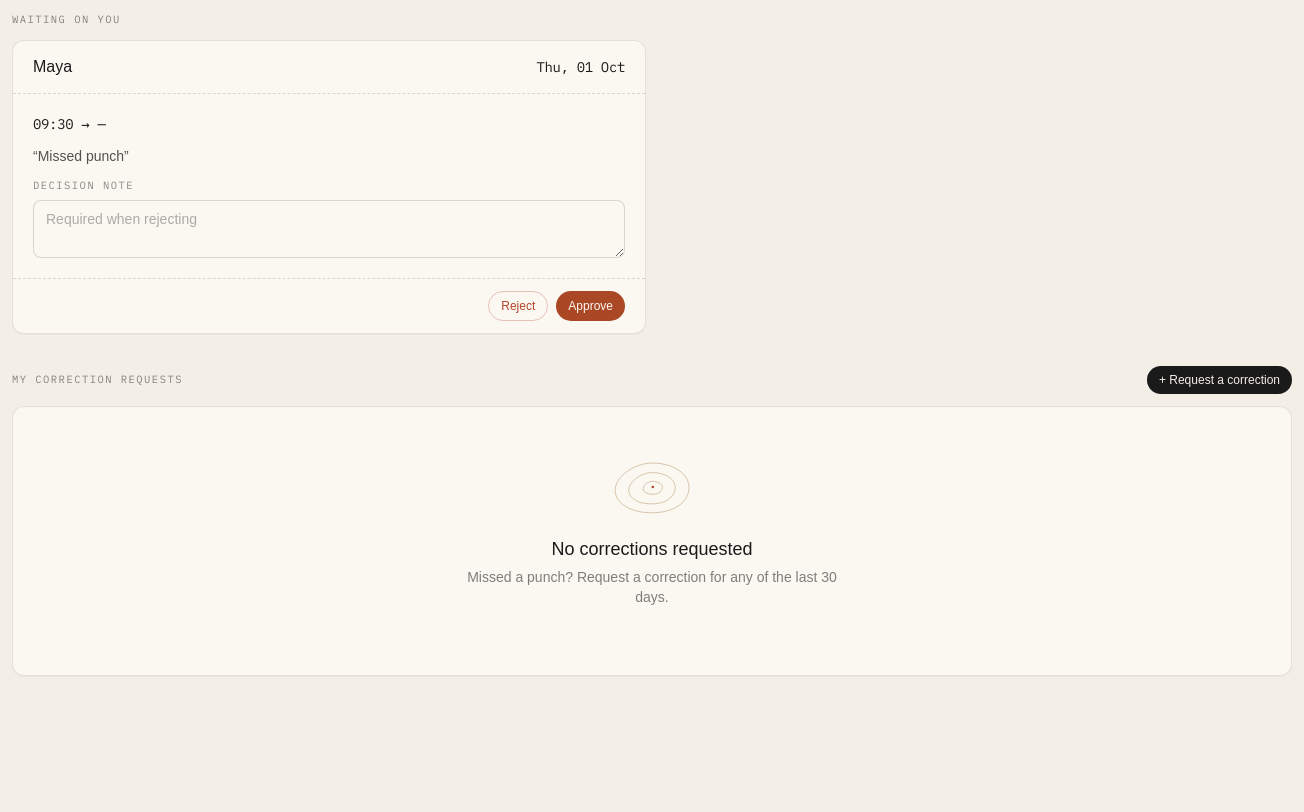
Test case: Attendance corrections › requires a note to reject, then posts the decision
The image size is (1304, 812).
Click the button "Reject": (518, 306) x1=488 y1=290 x2=548 y2=320
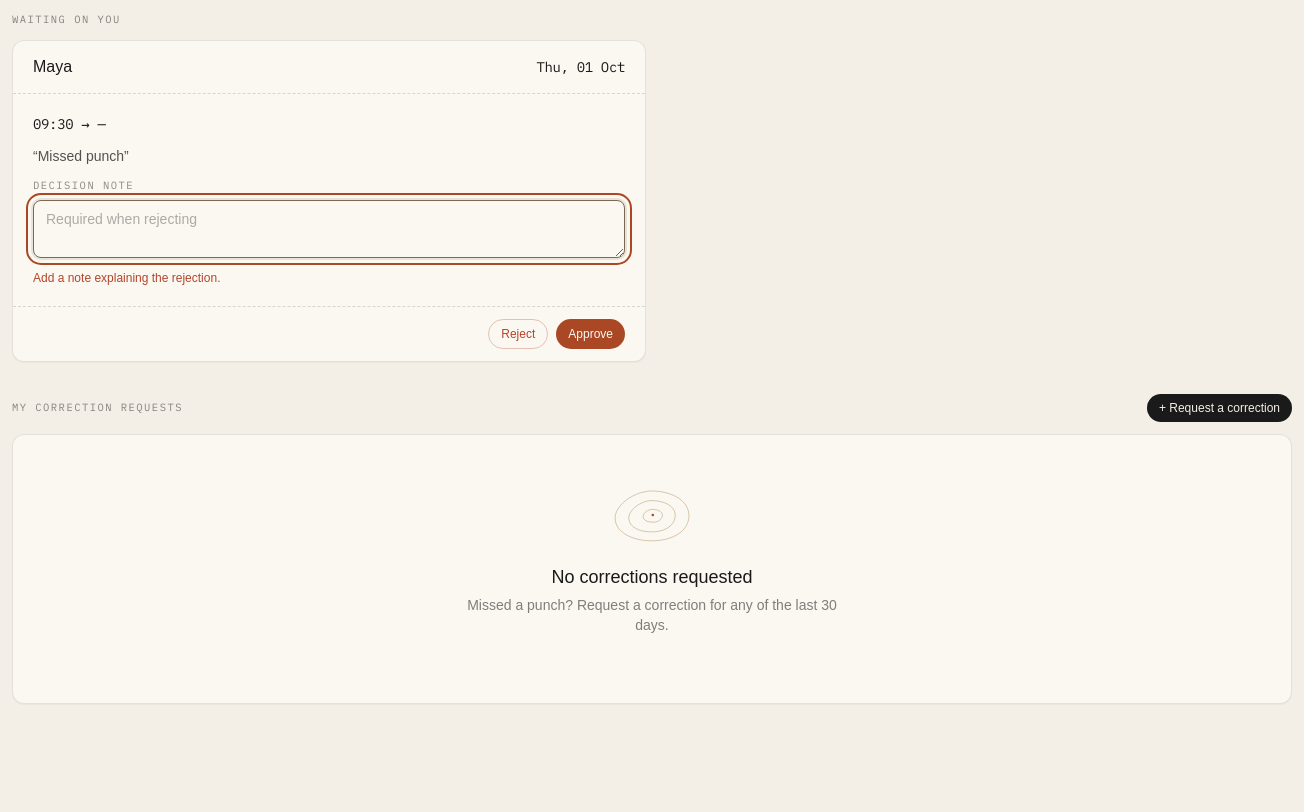
Expected: the text "Add a note" is shown, x1=33 y1=270 x2=220 y2=284
In the text box labelled "Decision note": (329, 228) x1=33 y1=200 x2=625 y2=258, type "Badge log says 11:00"
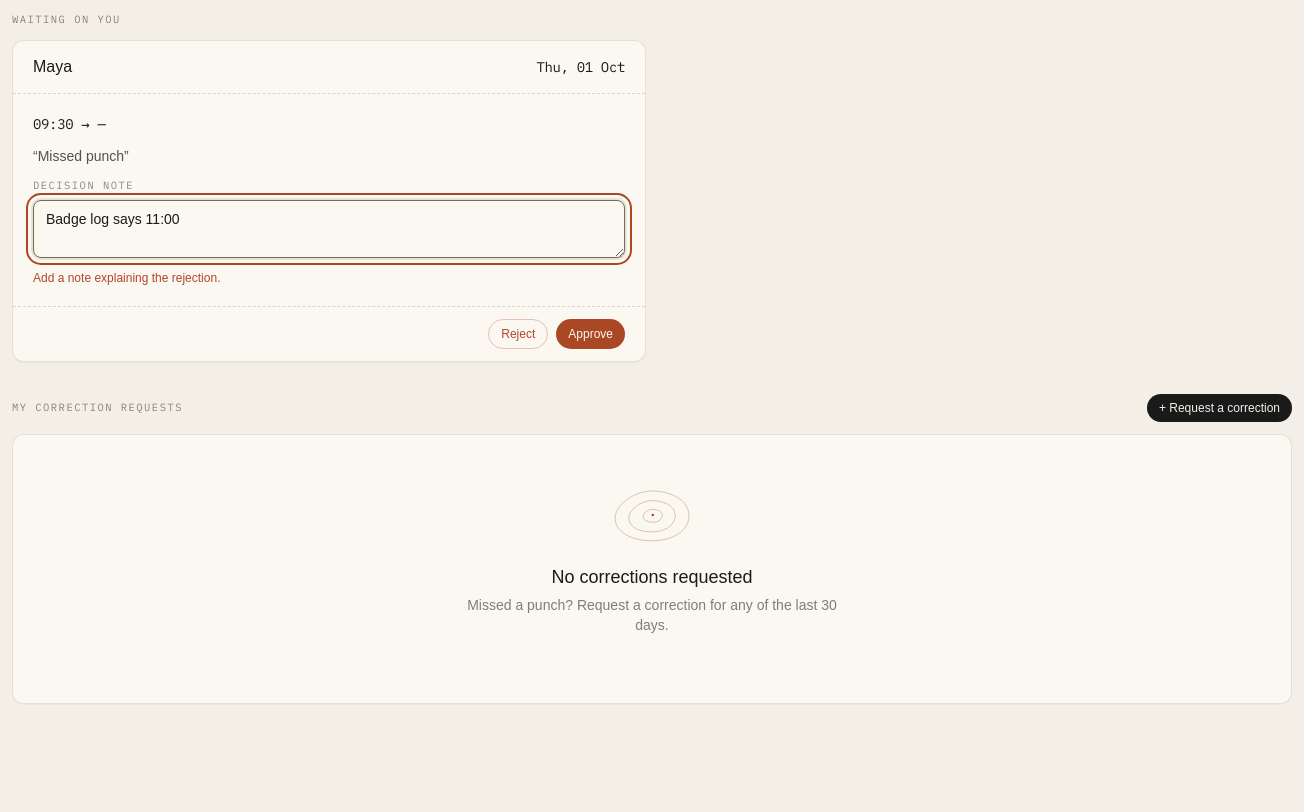
Click the button "Reject": (518, 334) x1=488 y1=318 x2=548 y2=348
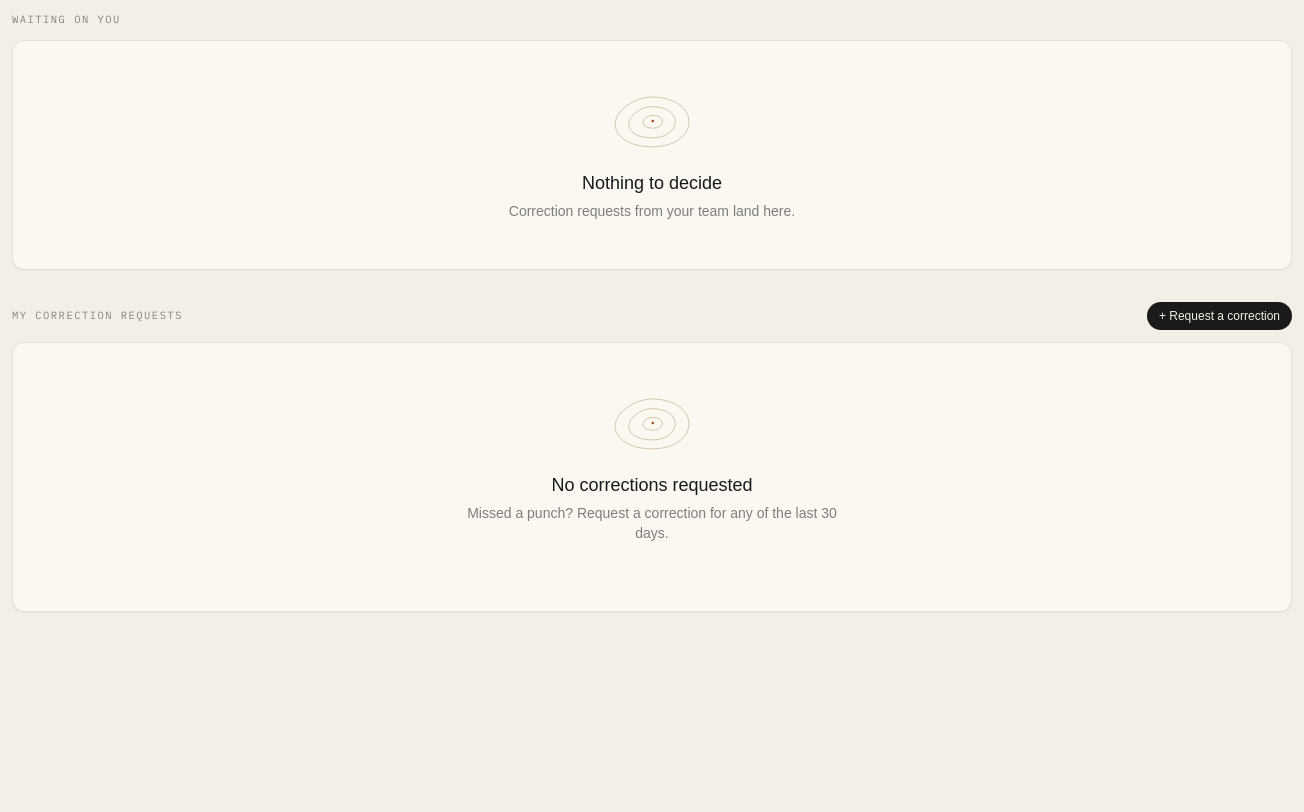
Expected: the text "Missed punch" is gone
